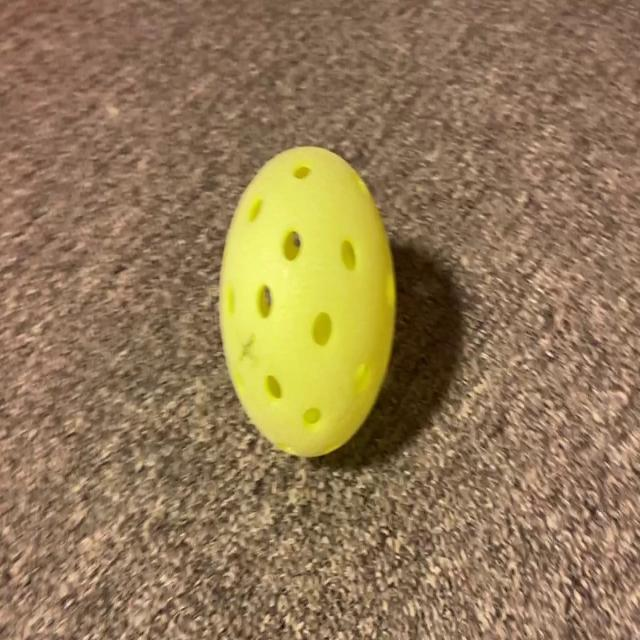ball: (201, 138, 412, 470)
